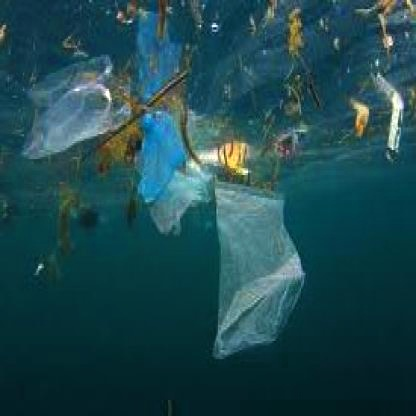pbag: (209, 177, 307, 364), (134, 109, 212, 239), (21, 75, 132, 161)
